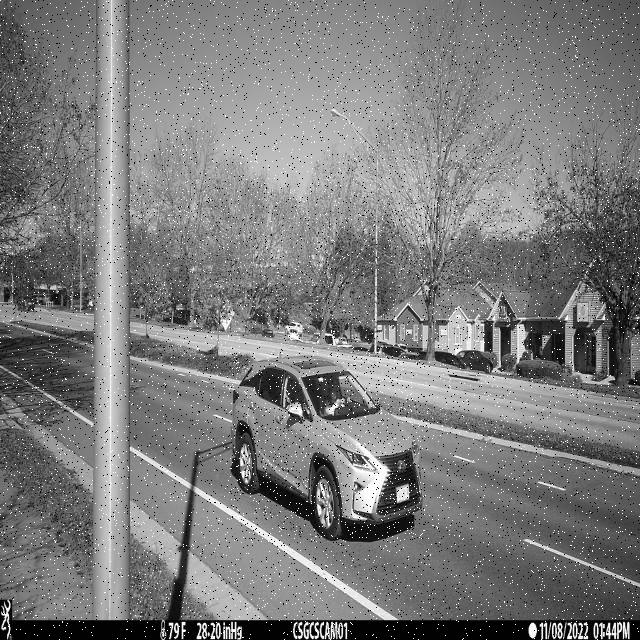Van: (230, 353, 425, 541)
